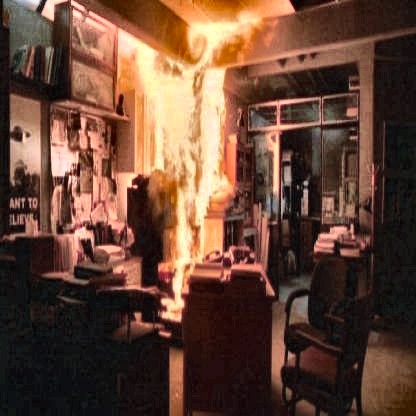fire: (117, 7, 255, 328)
